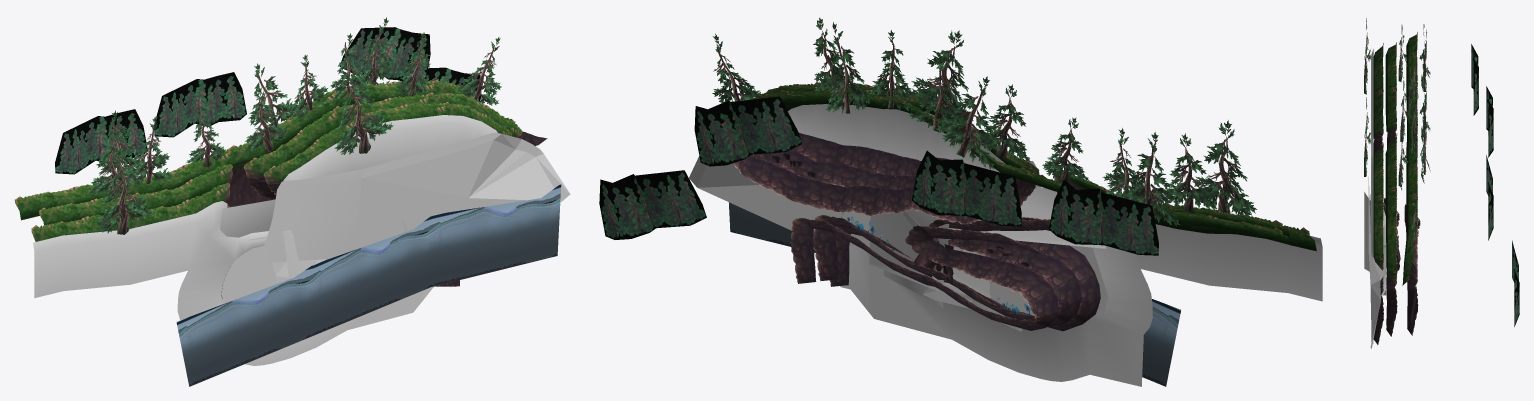
Rendered from Level 5 Crossroads Pt 1.FBX.
3 renders of one model, left to right at view 1: azimuth 30°, elevation 25°; view 2: azimuth 150°, elevation 25°; view 3: azimuth 270°, elevation 25°, orthographic. The views are drawn at different scales.
Parts seen in each view (by area): view 1: Fog Pt 1, Black Big Cave Pt 1, Black Pt 1 _1, Trees pt 1, Pine Tree Group Pt 1, Black Pt 1 _2, Ground Pt 1 _3, Trees pt 1 FG, Ground Pt 1 _3 FG, Ground Pt 1 _3 BG, Ground Pt 1 _1, Ground Pt 1 _1 BG (+5 smaller); view 2: Black Pt 1 _1, Pine Tree Group Pt 1, Trees pt 1, Ground Pt 1 _4 BG, Ground Pt 1 _2, Black Pt 1 _2, Black Big Cave Pt 1, Trees pt 1 FG, Ground Pt 1 _3, Fog Pt 1, Ground Pt 1 _2 FG, Ground Pt 1 _3 FG (+8 smaller); view 3: Trees pt 1, Pine Tree Group Pt 1, Ground Pt 1 _3, Ground Pt 1 _3 BG, Ground Pt 1 _3 FG, Ground Pt 1 _1, Ground Pt 1 _1 FG, Ground Pt 1 _1 BG, Black Big Cave Pt 1, Ground Pt 1 _4 BG, Ground Pt 1 _2, Trees pt 1 FG (+5 smaller).
Boxes of the visible parts, left/top/right/bottom form: Fog Pt 1: left=176, top=184, right=561, bottom=386; Black Big Cave Pt 1: left=258, top=132, right=570, bottom=263; Black Pt 1 _1: left=33, top=201, right=435, bottom=365; Trees pt 1: left=87, top=17, right=501, bottom=197; Pine Tree Group Pt 1: left=55, top=27, right=481, bottom=174; Black Pt 1 _2: left=283, top=115, right=497, bottom=181; Ground Pt 1 _3: left=243, top=92, right=522, bottom=199; Trees pt 1 FG: left=94, top=73, right=393, bottom=234; Ground Pt 1 _3 FG: left=263, top=102, right=512, bottom=195; Ground Pt 1 _3 BG: left=227, top=80, right=515, bottom=170; Ground Pt 1 _1: left=39, top=164, right=232, bottom=225; Ground Pt 1 _1 BG: left=14, top=150, right=230, bottom=220; Black Pt 1 _1: left=840, top=224, right=1322, bottom=386; Pine Tree Group Pt 1: left=599, top=96, right=1158, bottom=255; Trees pt 1: left=712, top=17, right=1217, bottom=226; Ground Pt 1 _4 BG: left=734, top=154, right=1058, bottom=330; Ground Pt 1 _2: left=813, top=215, right=1081, bottom=327; Black Pt 1 _2: left=788, top=104, right=1018, bottom=172; Black Big Cave Pt 1: left=689, top=156, right=1040, bottom=247; Trees pt 1 FG: left=905, top=30, right=1257, bottom=215; Ground Pt 1 _3: left=752, top=84, right=1039, bottom=205; Fog Pt 1: left=729, top=202, right=1180, bottom=386; Ground Pt 1 _2 FG: left=829, top=217, right=1100, bottom=331; Ground Pt 1 _3 FG: left=785, top=82, right=1033, bottom=183; Trees pt 1: left=1398, top=24, right=1430, bottom=251; Pine Tree Group Pt 1: left=1471, top=44, right=1519, bottom=326; Ground Pt 1 _3: left=1385, top=133, right=1397, bottom=284; Ground Pt 1 _3 BG: left=1402, top=124, right=1417, bottom=285; Ground Pt 1 _3 FG: left=1373, top=143, right=1383, bottom=270; Ground Pt 1 _1: left=1385, top=42, right=1396, bottom=139; Ground Pt 1 _1 FG: left=1373, top=43, right=1383, bottom=145; Ground Pt 1 _1 BG: left=1406, top=32, right=1417, bottom=135; Black Big Cave Pt 1: left=1368, top=177, right=1380, bottom=348; Ground Pt 1 _4 BG: left=1404, top=160, right=1420, bottom=335; Ground Pt 1 _2: left=1384, top=135, right=1399, bottom=336; Trees pt 1 FG: left=1364, top=18, right=1371, bottom=176.
Size of what is drawn, in the model's own units: 5965 by 1861 by 3100.
